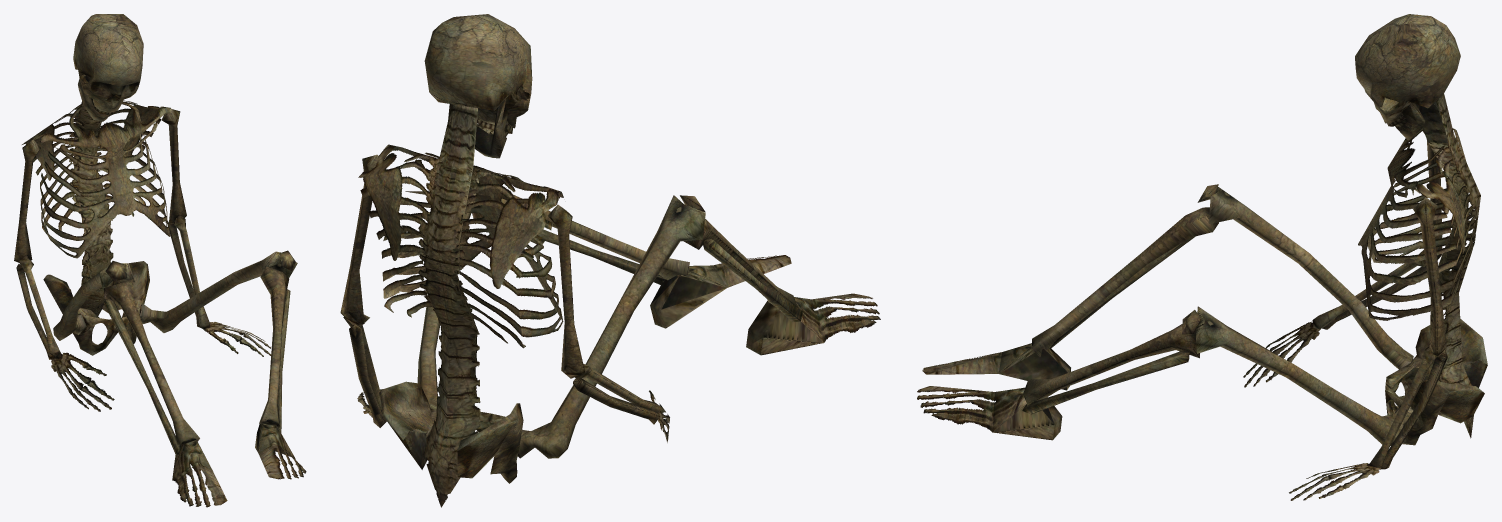
File: Skeleton Sitting.fbx
3 views of the same model, side by side, from view 1: azimuth 30°, elevation 25°; view 2: azimuth 150°, elevation 25°; view 3: azimuth 270°, elevation 25° (orthographic). The views are drawn at different scales.
Visible parts, largest first — view 1: item_j; view 2: item_j; view 3: item_j.
Part boxes in pixels (box(x1,y1,x2,y2)): item_j: box(14, 14, 306, 507); item_j: box(340, 14, 880, 507); item_j: box(917, 14, 1487, 500).
Size of the model in its own units: 54.8 by 74.41 by 91.88.
